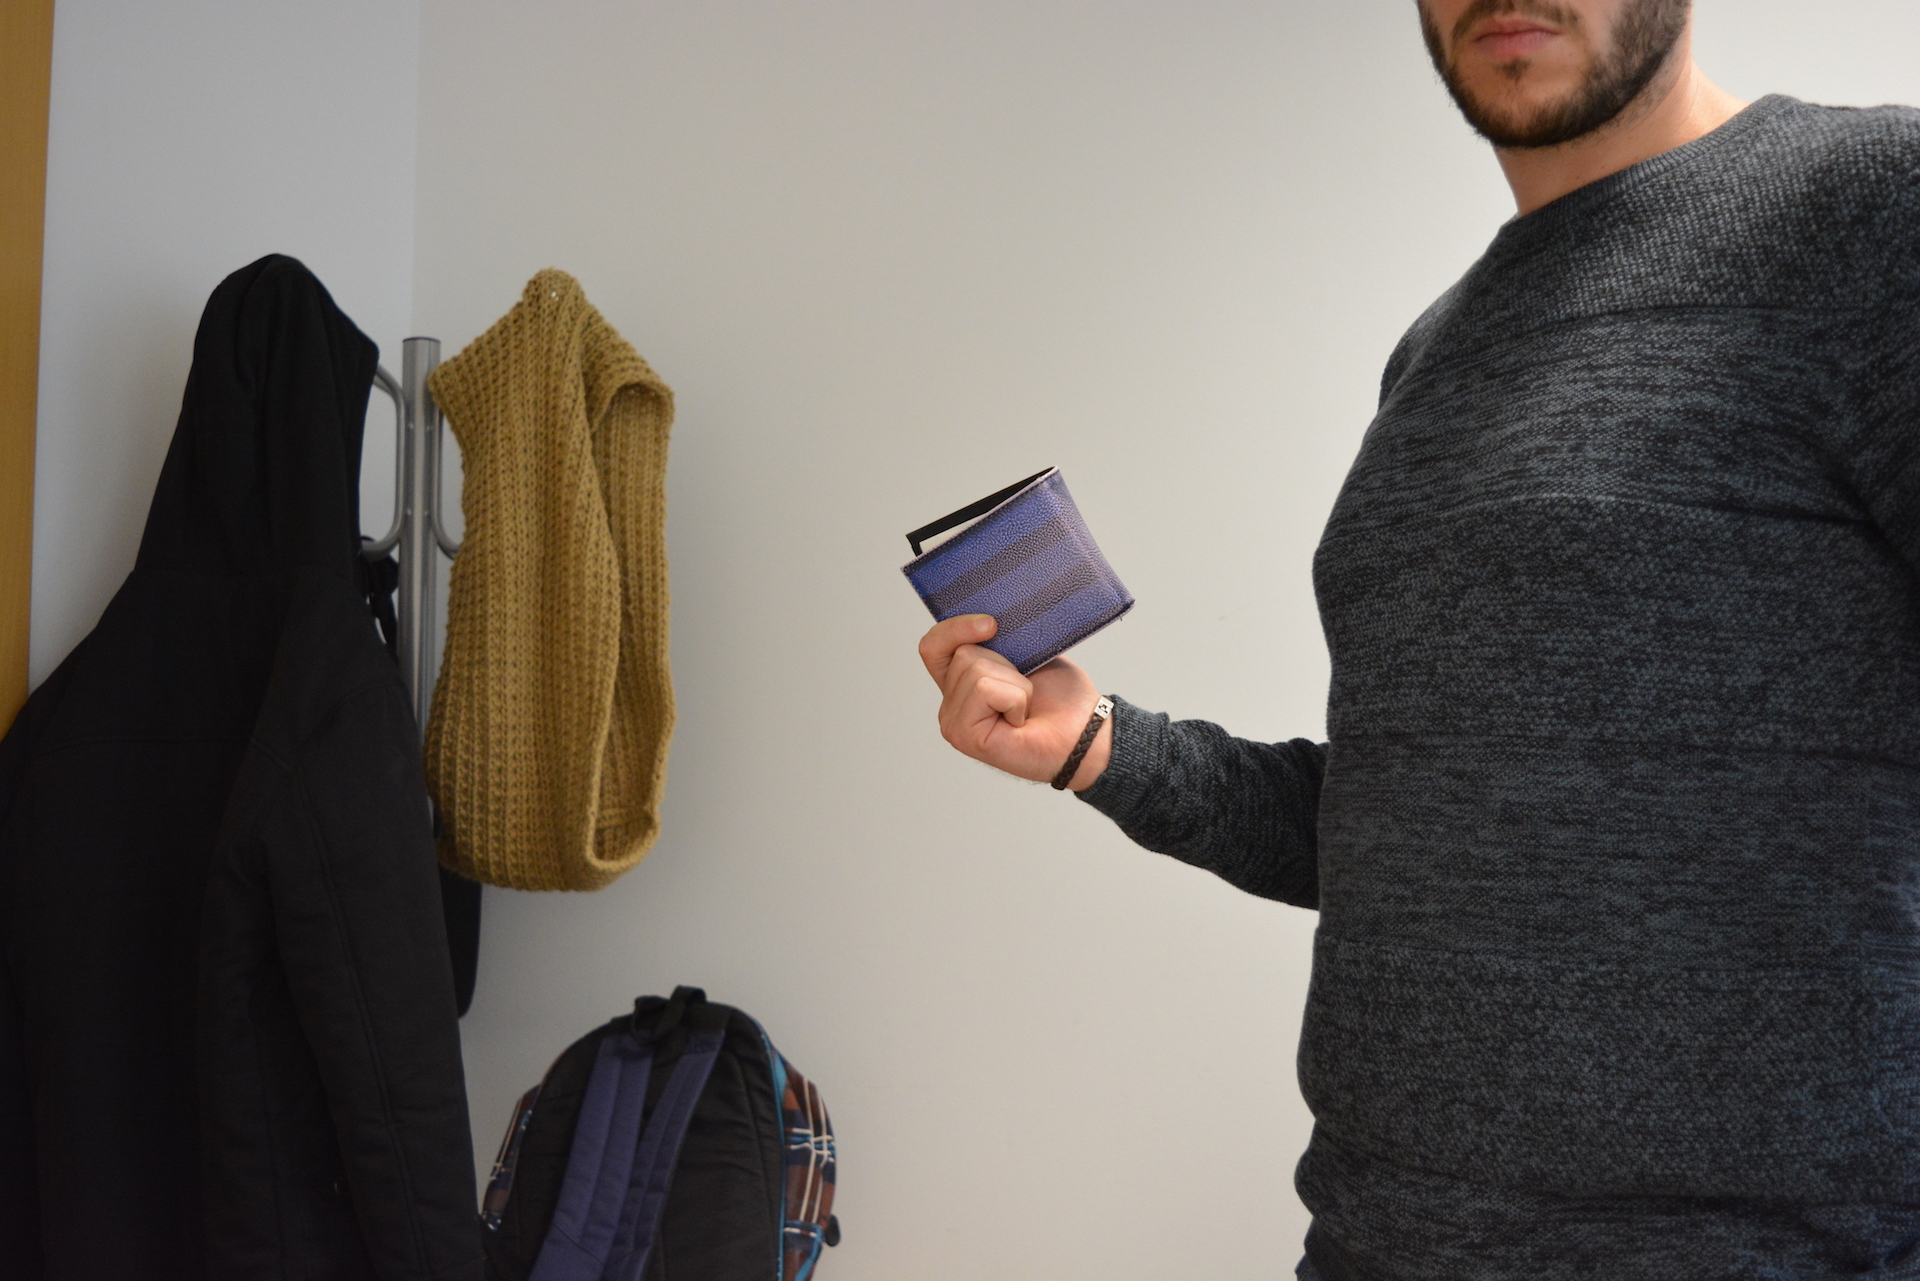monedero: (898, 463, 1137, 681)
